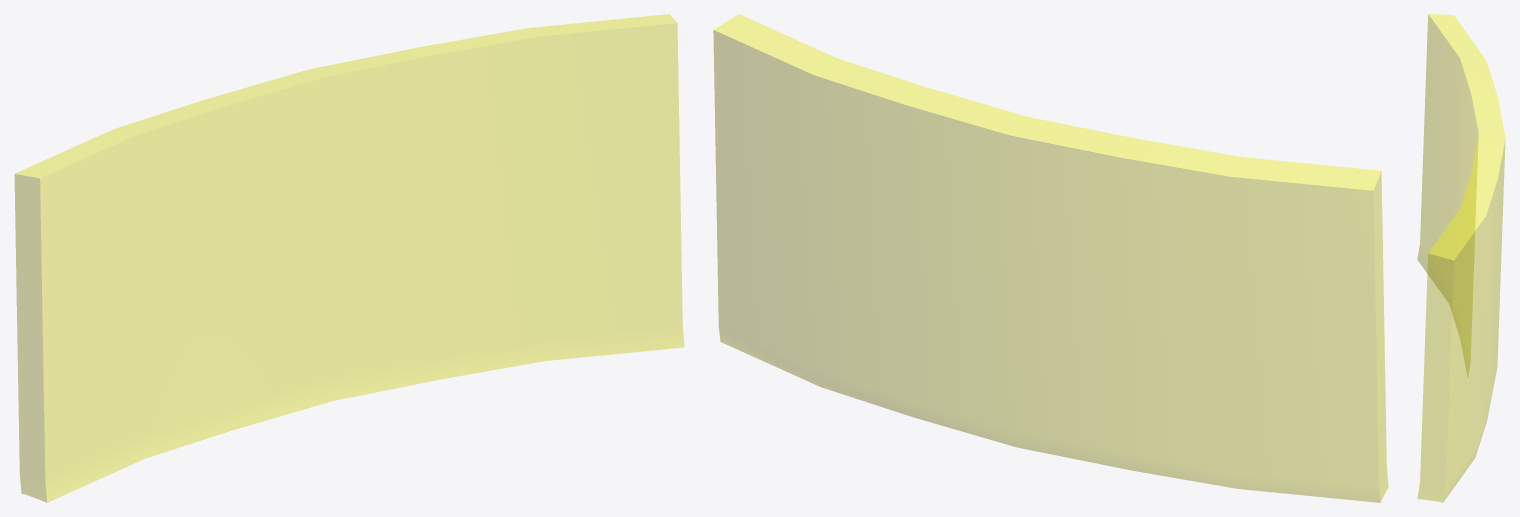
Rendered from display_box_002.gltf.
3 renders of one model, left to right at view 1: azimuth 30°, elevation 25°; view 2: azimuth 150°, elevation 25°; view 3: azimuth 270°, elevation 25°, orthographic. The views are drawn at different scales.
Parts seen in each view (by area): view 1: Model; view 2: Model; view 3: Model.
Part boxes in pixels (x1,y1,x2,y2): Model: (15,14,683,502); Model: (713,14,1388,502); Model: (1417,14,1505,502).
Bounding box in the file's own units: 6.46 × 3.02 × 0.9798.
